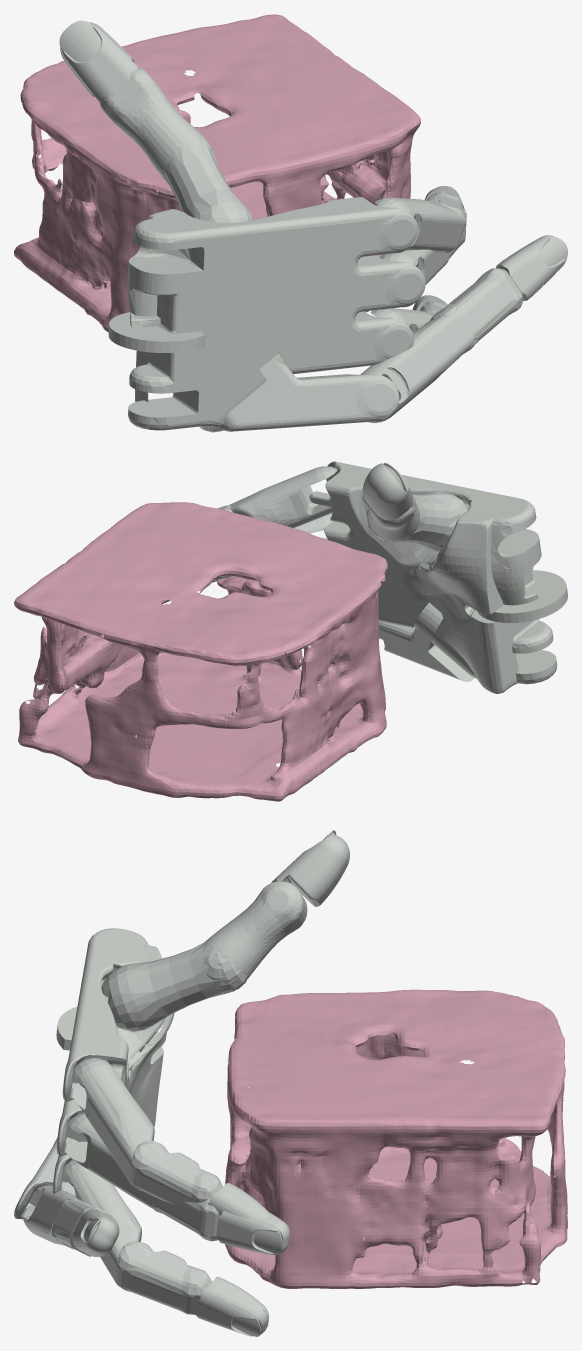
The picture shows the model from 3 angles, top to bottom: view 1: azimuth 30°, elevation 25°; view 2: azimuth 150°, elevation 25°; view 3: azimuth 270°, elevation 25°; orthographic projection. The views are drawn at different scales.
Visible parts, largest first — view 1: hand_isaac_q, world; view 2: world, hand_isaac_q; view 3: world, hand_isaac_q.
Part boxes in pixels (x1,y1,x2,y2): hand_isaac_q: [59, 20, 567, 432]; world: [14, 14, 420, 332]; world: [14, 502, 387, 801]; hand_isaac_q: [211, 461, 567, 693]; world: [225, 989, 567, 1288]; hand_isaac_q: [14, 830, 349, 1336].
Size of the model in its own units: 0.1953 by 0.1492 by 0.2115.
